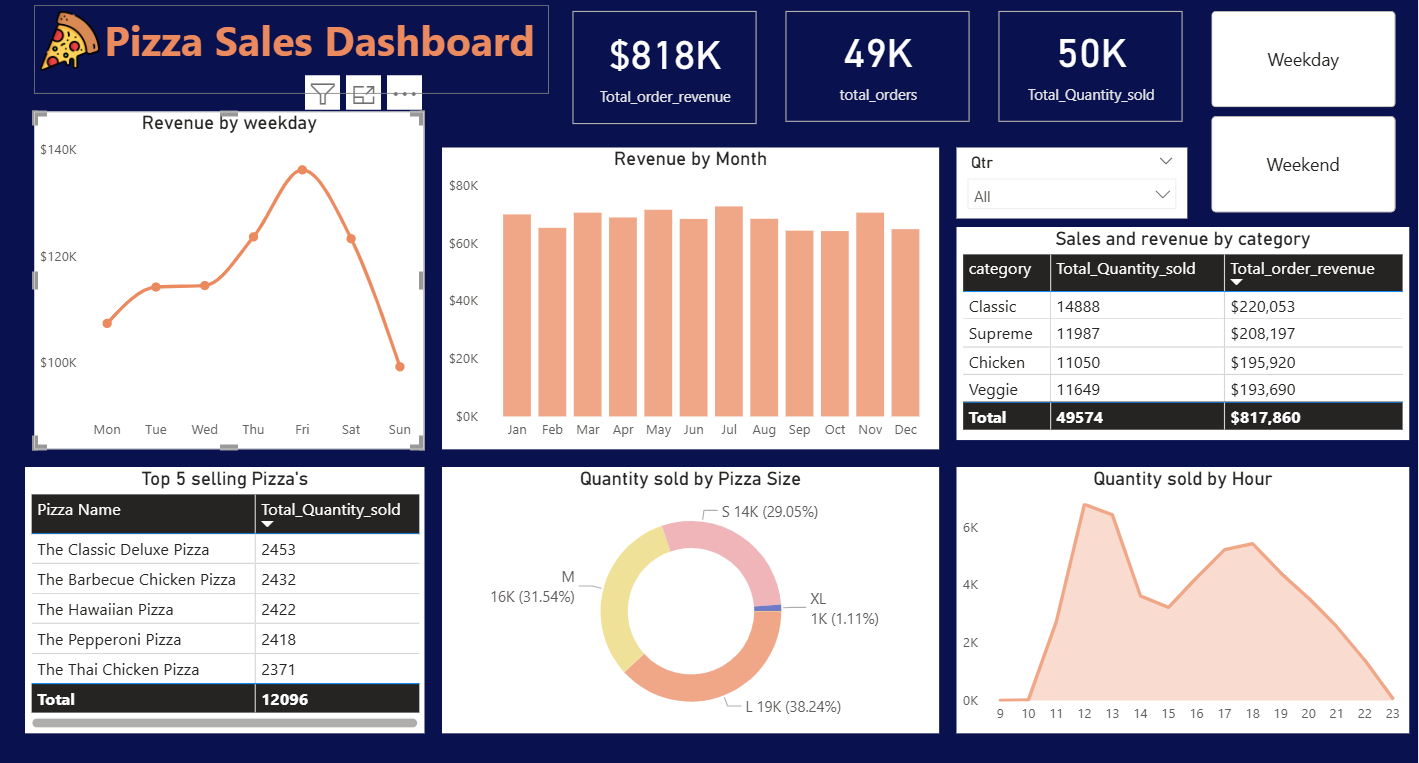

Layout of this report page (visuals, bound fields, positions):
{"tool":"powerbi","page":{"name":"Page 1","canvas":[1280,720],"ordinal":0},"visuals":[{"type":"cardVisual","fields":{"Data":["order_details.Total_order_revenue"]},"box":[512,16,176,112],"z":0},{"type":"cardVisual","fields":{"Data":["order_details.total_orders"]},"box":[704,16,176,110],"z":1000},{"type":"cardVisual","fields":{"Data":["order_details.Total_Quantity_sold"]},"box":[896,16,176,110],"z":2000},{"type":"tableEx","title":"Sales and revenue by category","fields":{"Values":["pizza_types.category","order_details.Total_Quantity_sold","order_details.Total_order_revenue"]},"box":[864,216,408,192],"z":3000},{"type":"advancedSlicerVisual","fields":{"Values":["Calender.IsWeekend"]},"box":[1088,16,176,192],"z":4000},{"type":"tableEx","title":"Top 5 selling Pizza''s","fields":{"Values":["pizza_types.name","order_details.Total_Quantity_sold"]},"box":[24,432,360,240],"z":5000},{"type":"slicer","fields":{"Values":["Calender.Qtr"]},"box":[864,144,208,64],"z":6000},{"type":"areaChart","title":"Quantity sold by Hour","fields":{"Category":["orders.Hour"],"Y":["order_details.Total_Quantity_sold"]},"box":[864,432,408,240],"z":7000},{"type":"columnChart","title":"Revenue by Month","fields":{"Category":["Calender.Month_name"],"Y":["order_details.Total_order_revenue"]},"box":[400,144,448,272],"z":8000},{"type":"lineChart","title":"Revenue by weekday","fields":{"Category":["Calender.weekday"],"Y":["order_details.Total_order_revenue"]},"box":[32,112,352,304],"z":9000},{"type":"textbox","box":[32,16,464,80],"z":10000},{"type":"donutChart","title":"Quantity sold by Pizza Size","fields":{"Category":["pizzas.size"],"Y":["order_details.Total_Quantity_sold"]},"box":[400,432,448,240],"z":11000},{"type":"image","box":[32,16,64,64],"z":12000}]}

Visuals, with their boxes in screenshot pixels (x1, y1, x2, y2):
cardVisual - order_details.Total_order_revenue: detection(563, 0, 760, 114)
cardVisual - order_details.total_orders: detection(778, 0, 975, 112)
cardVisual - order_details.Total_Quantity_sold: detection(993, 0, 1190, 112)
"Sales and revenue by category" tableEx: detection(957, 213, 1414, 428)
advancedSlicerVisual - Calender.IsWeekend: detection(1208, 0, 1405, 204)
"Top 5 selling Pizza''s" tableEx: detection(16, 455, 419, 724)
slicer - Calender.Qtr: detection(957, 132, 1190, 204)
"Quantity sold by Hour" areaChart: detection(957, 455, 1414, 724)
"Revenue by Month" columnChart: detection(437, 132, 939, 437)
"Revenue by weekday" lineChart: detection(25, 96, 419, 437)
textbox: detection(25, 0, 545, 78)
"Quantity sold by Pizza Size" donutChart: detection(437, 455, 939, 724)
image: detection(25, 0, 96, 60)
